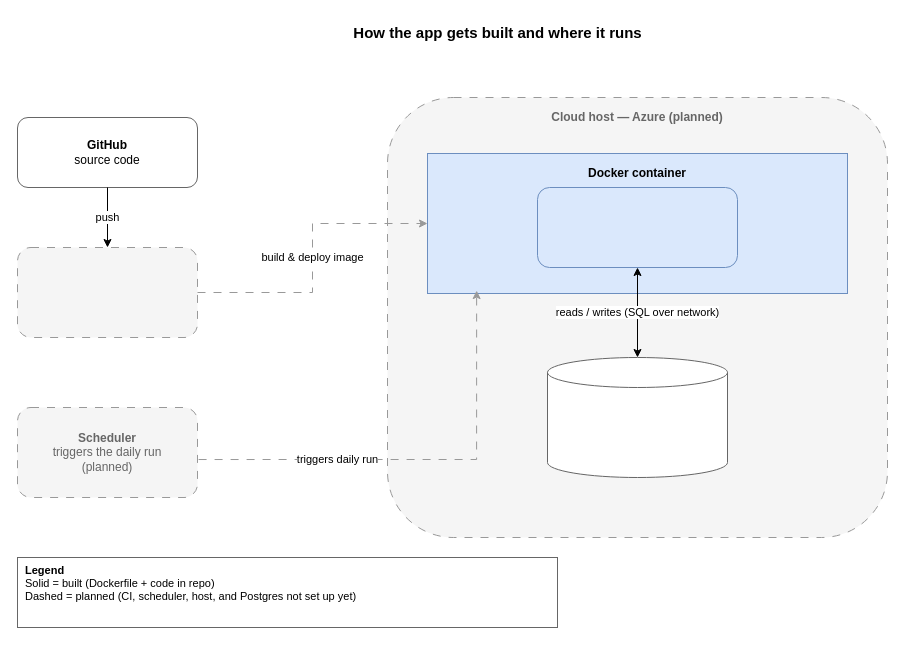
This 905x645 diagram has some shape labels left out. The centre of each missing label's shape, as x and y in pixels:
"GitHub Actions builds & deploys the image (CI/CD) (planned)" goes at point (107, 292).
"PostgreSQL" goes at point (637, 417).
"Scout App 3 agents + Tracker" goes at point (637, 227).
